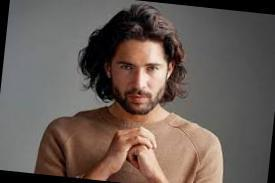Sober: (117, 46, 162, 104)
